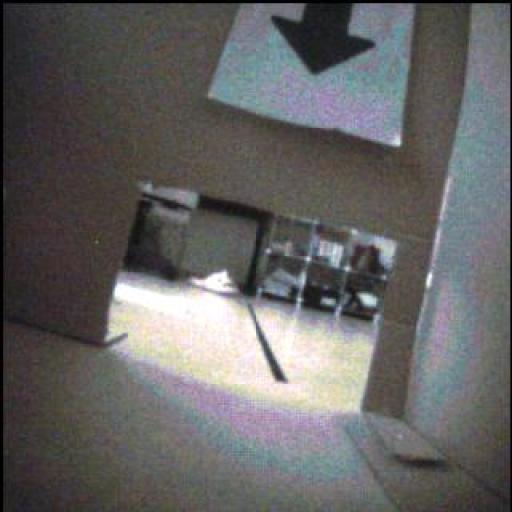arrow: (273, 4, 375, 75)
